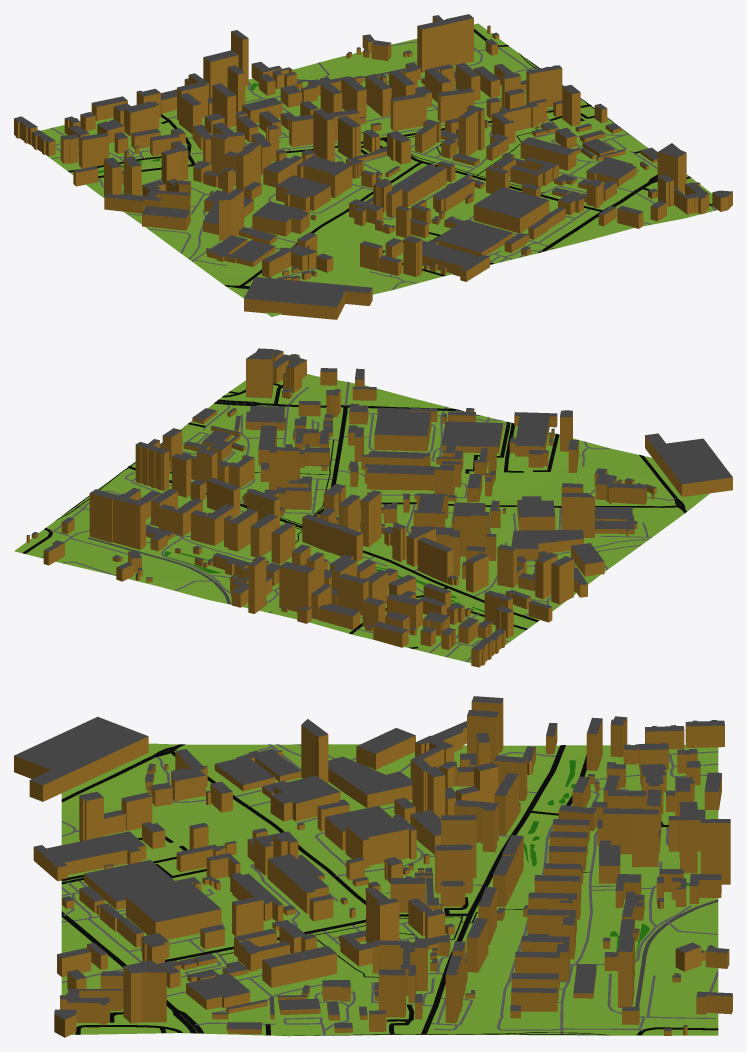
The model's file is tile_03_02.glb.
3 views of the same model, one above another, from view 1: azimuth 30°, elevation 25°; view 2: azimuth 150°, elevation 25°; view 3: azimuth 270°, elevation 25° (orthographic). The views are drawn at different scales.
Parts seen in each view (by area): view 1: Ub_small.osm_buildings_03_02, Terrain_03_02, Ub_small.osm_roads_service_03_02, Ub_small.osm_roads_tertiary_03_02, Ub_small.osm_roads_secondary_03_02; view 2: Ub_small.osm_buildings_03_02, Terrain_03_02, Ub_small.osm_roads_service_03_02, Ub_small.osm_roads_secondary_03_02, Ub_small.osm_roads_residential_03_02, Ub_small.osm_roads_tertiary_03_02, Ub_small.osm_roads_trunk_03_02; view 3: Ub_small.osm_buildings_03_02, Terrain_03_02, Ub_small.osm_roads_service_03_02, Ub_small.osm_roads_secondary_03_02, Ub_small.osm_roads_tertiary_03_02, Ub_small.osm_roads_residential_03_02, Ub_small.osm_forest_03_02, Ub_small.osm_roads_trunk_03_02, Ub_small.osm_paths_footway_03_02, Ub_small.osm_railways_03_02.
Part boxes in pixels (bbox=[...]): Ub_small.osm_buildings_03_02: bbox=[14, 14, 732, 319]; Terrain_03_02: bbox=[40, 23, 717, 316]; Ub_small.osm_roads_service_03_02: bbox=[50, 41, 716, 289]; Ub_small.osm_roads_tertiary_03_02: bbox=[68, 154, 421, 288]; Ub_small.osm_roads_secondary_03_02: bbox=[98, 104, 603, 211]; Ub_small.osm_buildings_03_02: bbox=[26, 348, 732, 667]; Terrain_03_02: bbox=[14, 374, 732, 662]; Ub_small.osm_roads_service_03_02: bbox=[42, 381, 675, 661]; Ub_small.osm_roads_secondary_03_02: bbox=[127, 406, 538, 621]; Ub_small.osm_roads_residential_03_02: bbox=[170, 383, 559, 648]; Ub_small.osm_roads_tertiary_03_02: bbox=[360, 455, 686, 629]; Ub_small.osm_roads_trunk_03_02: bbox=[214, 399, 463, 411]; Ub_small.osm_buildings_03_02: bbox=[14, 696, 732, 1037]; Terrain_03_02: bbox=[61, 743, 718, 1036]; Ub_small.osm_roads_service_03_02: bbox=[61, 744, 718, 1035]; Ub_small.osm_roads_secondary_03_02: bbox=[165, 745, 565, 1034]; Ub_small.osm_roads_tertiary_03_02: bbox=[61, 744, 586, 904]; Ub_small.osm_roads_residential_03_02: bbox=[61, 821, 663, 1035]; Ub_small.osm_forest_03_02: bbox=[523, 760, 689, 959]; Ub_small.osm_roads_trunk_03_02: bbox=[61, 911, 204, 1033]; Ub_small.osm_paths_footway_03_02: bbox=[220, 871, 610, 1035]; Ub_small.osm_railways_03_02: bbox=[635, 899, 718, 1006].
Size of the model in its own units: 1017 by 102 by 1018.
